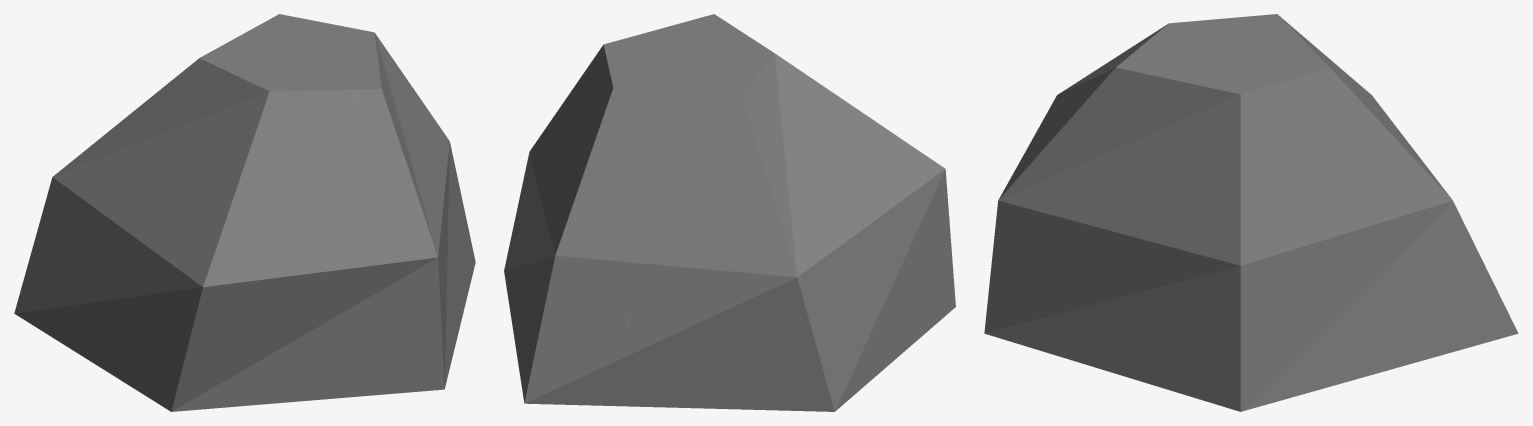
The model's file is rock1.fbx.
3 views of the same model, side by side, from view 1: azimuth 30°, elevation 25°; view 2: azimuth 150°, elevation 25°; view 3: azimuth 270°, elevation 25° (orthographic). The views are drawn at different scales.
Visible parts, largest first — view 1: Cylinder032; view 2: Cylinder032; view 3: Cylinder032.
Part boxes in pixels (x1,y1,x2,y2): Cylinder032: (14, 14, 475, 411); Cylinder032: (504, 14, 955, 411); Cylinder032: (984, 14, 1518, 411).
Bounding box in the file's own units: 149 × 90.95 × 166.
